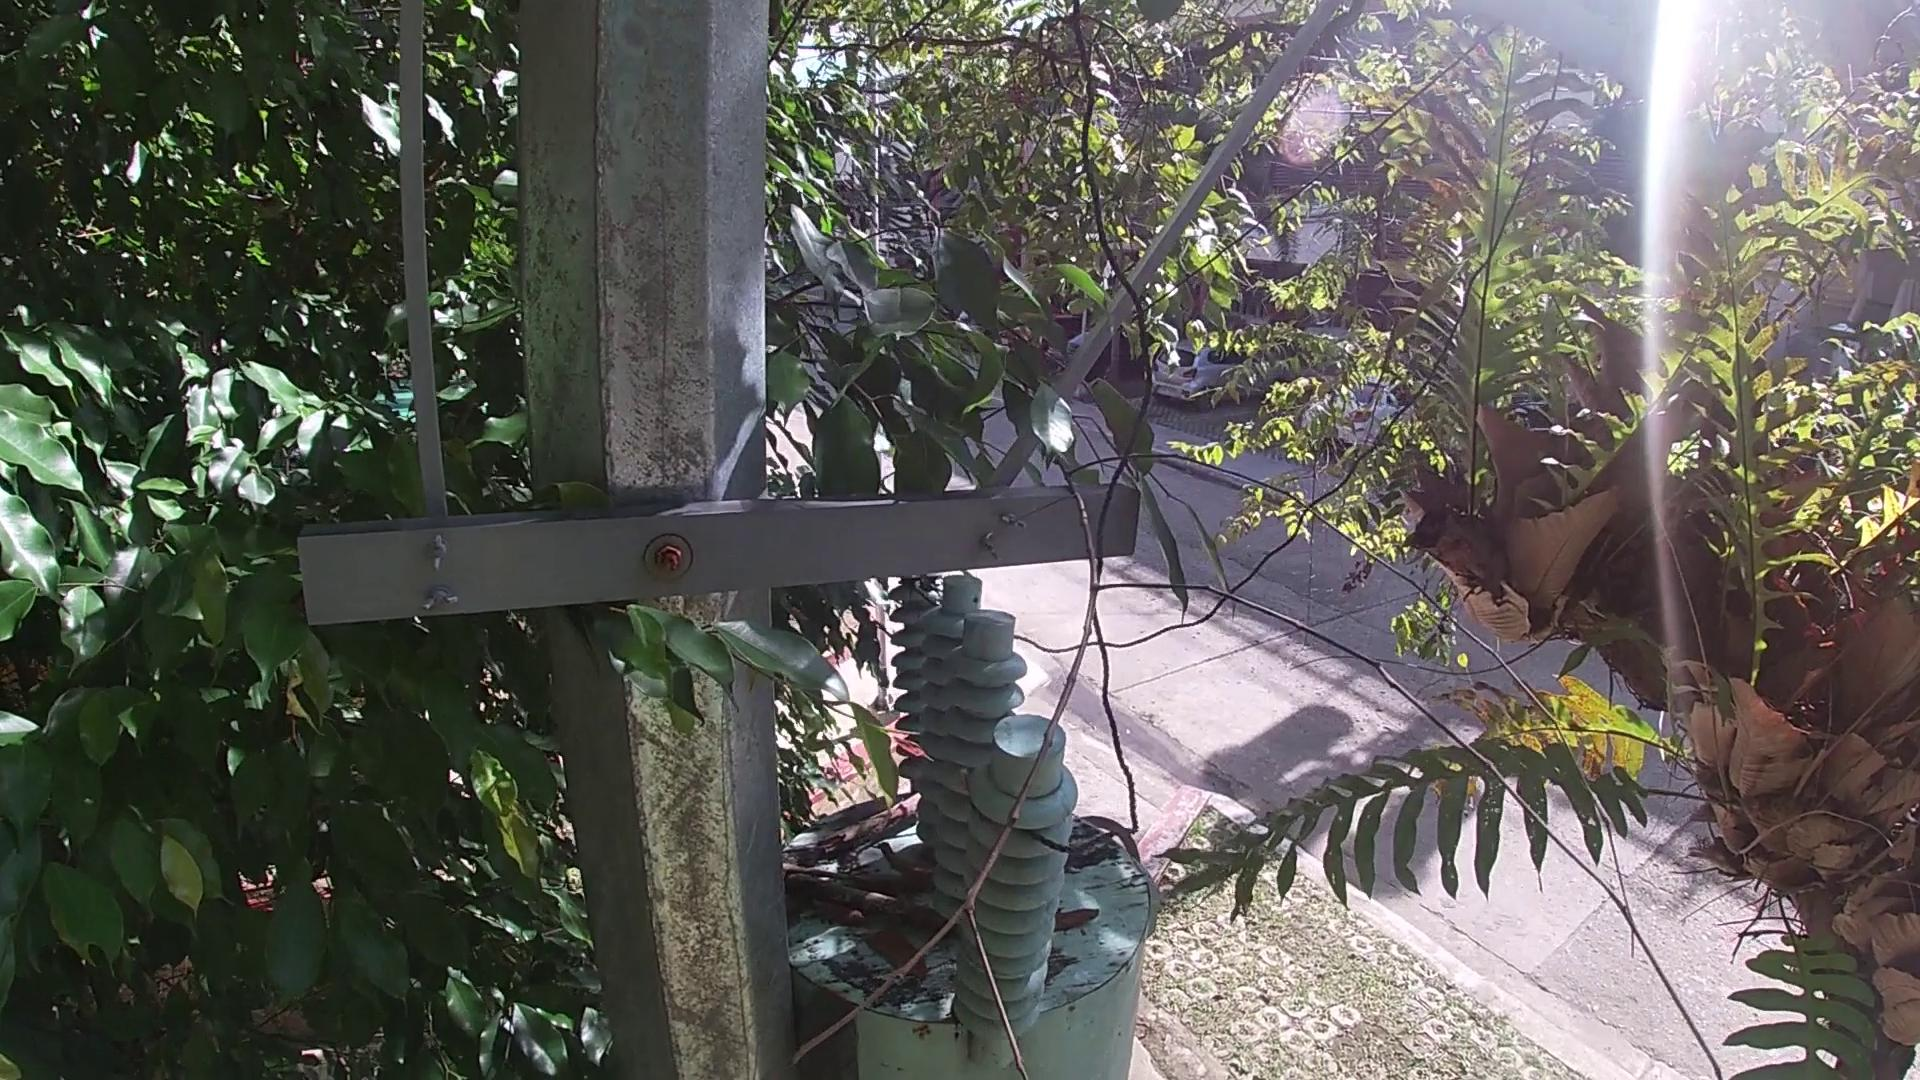leaf: (868, 930, 932, 988), (804, 903, 868, 932)
mahogany fruit: (872, 825, 930, 878), (1055, 905, 1114, 939)
tree branch: (802, 327, 1738, 1073), (798, 791, 934, 855), (782, 876, 936, 926), (782, 864, 894, 887)
